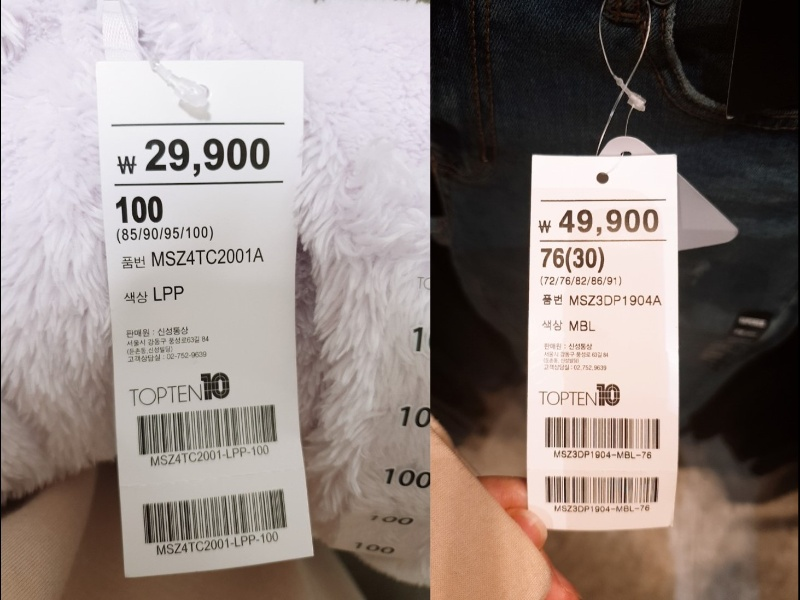tag: (95, 60, 312, 580), (524, 153, 679, 529)
text: (116, 135, 275, 180), (127, 371, 234, 408), (536, 208, 661, 237), (156, 531, 282, 556), (146, 246, 266, 269), (539, 380, 622, 411), (541, 338, 612, 374), (149, 446, 273, 466), (127, 336, 213, 362), (564, 291, 667, 312), (539, 244, 604, 274), (549, 446, 656, 464), (116, 224, 216, 242), (113, 195, 165, 225), (552, 503, 654, 516), (537, 274, 624, 288), (123, 325, 191, 337), (150, 283, 185, 304), (118, 252, 147, 271), (569, 318, 597, 335), (537, 291, 564, 308), (124, 288, 149, 305), (540, 316, 564, 333)
